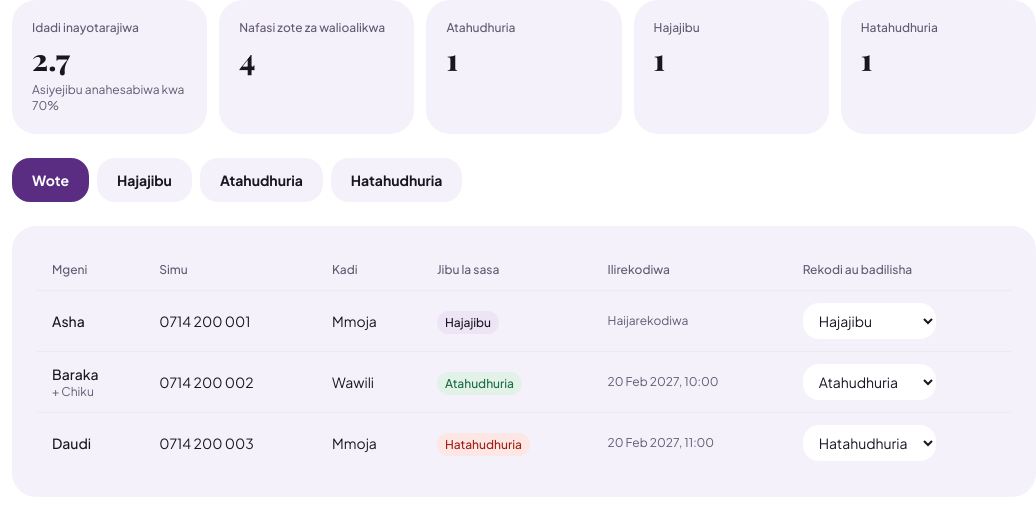
ConfirmationsManager › renders summary, guests and filters in Swahili
The width and height of the screenshot is (1036, 514).
Expected: the text "Idadi inayotarajiwa" is shown, [32,20,139,35]
Expected: the text "Asiyejibu anahesabiwa kwa 70%" is shown, [32,82,187,114]
Click the button "Hajajibu" at (144, 180), box [97,158,192,202]
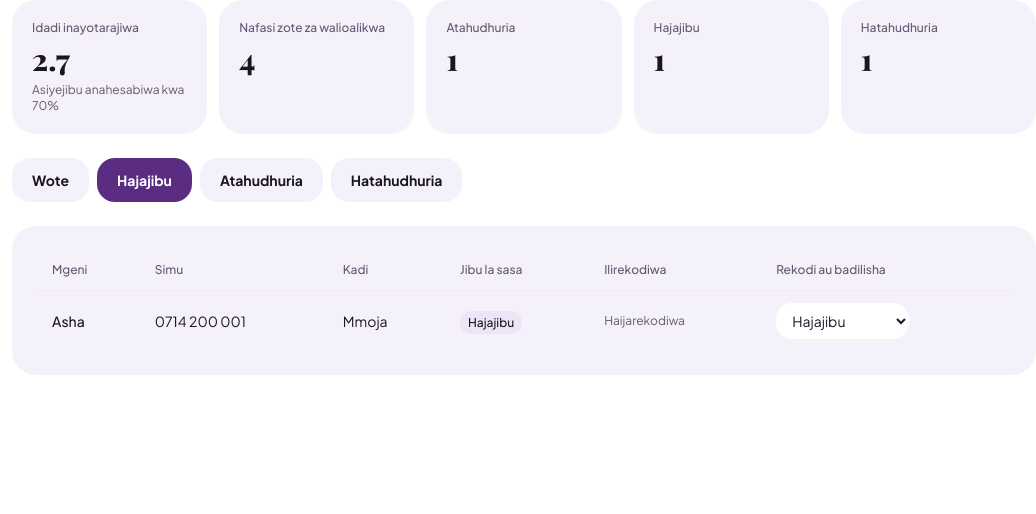
Expected: the text "Asha" is shown, [52,312,85,330]
Expected: the text "Baraka" is gone
